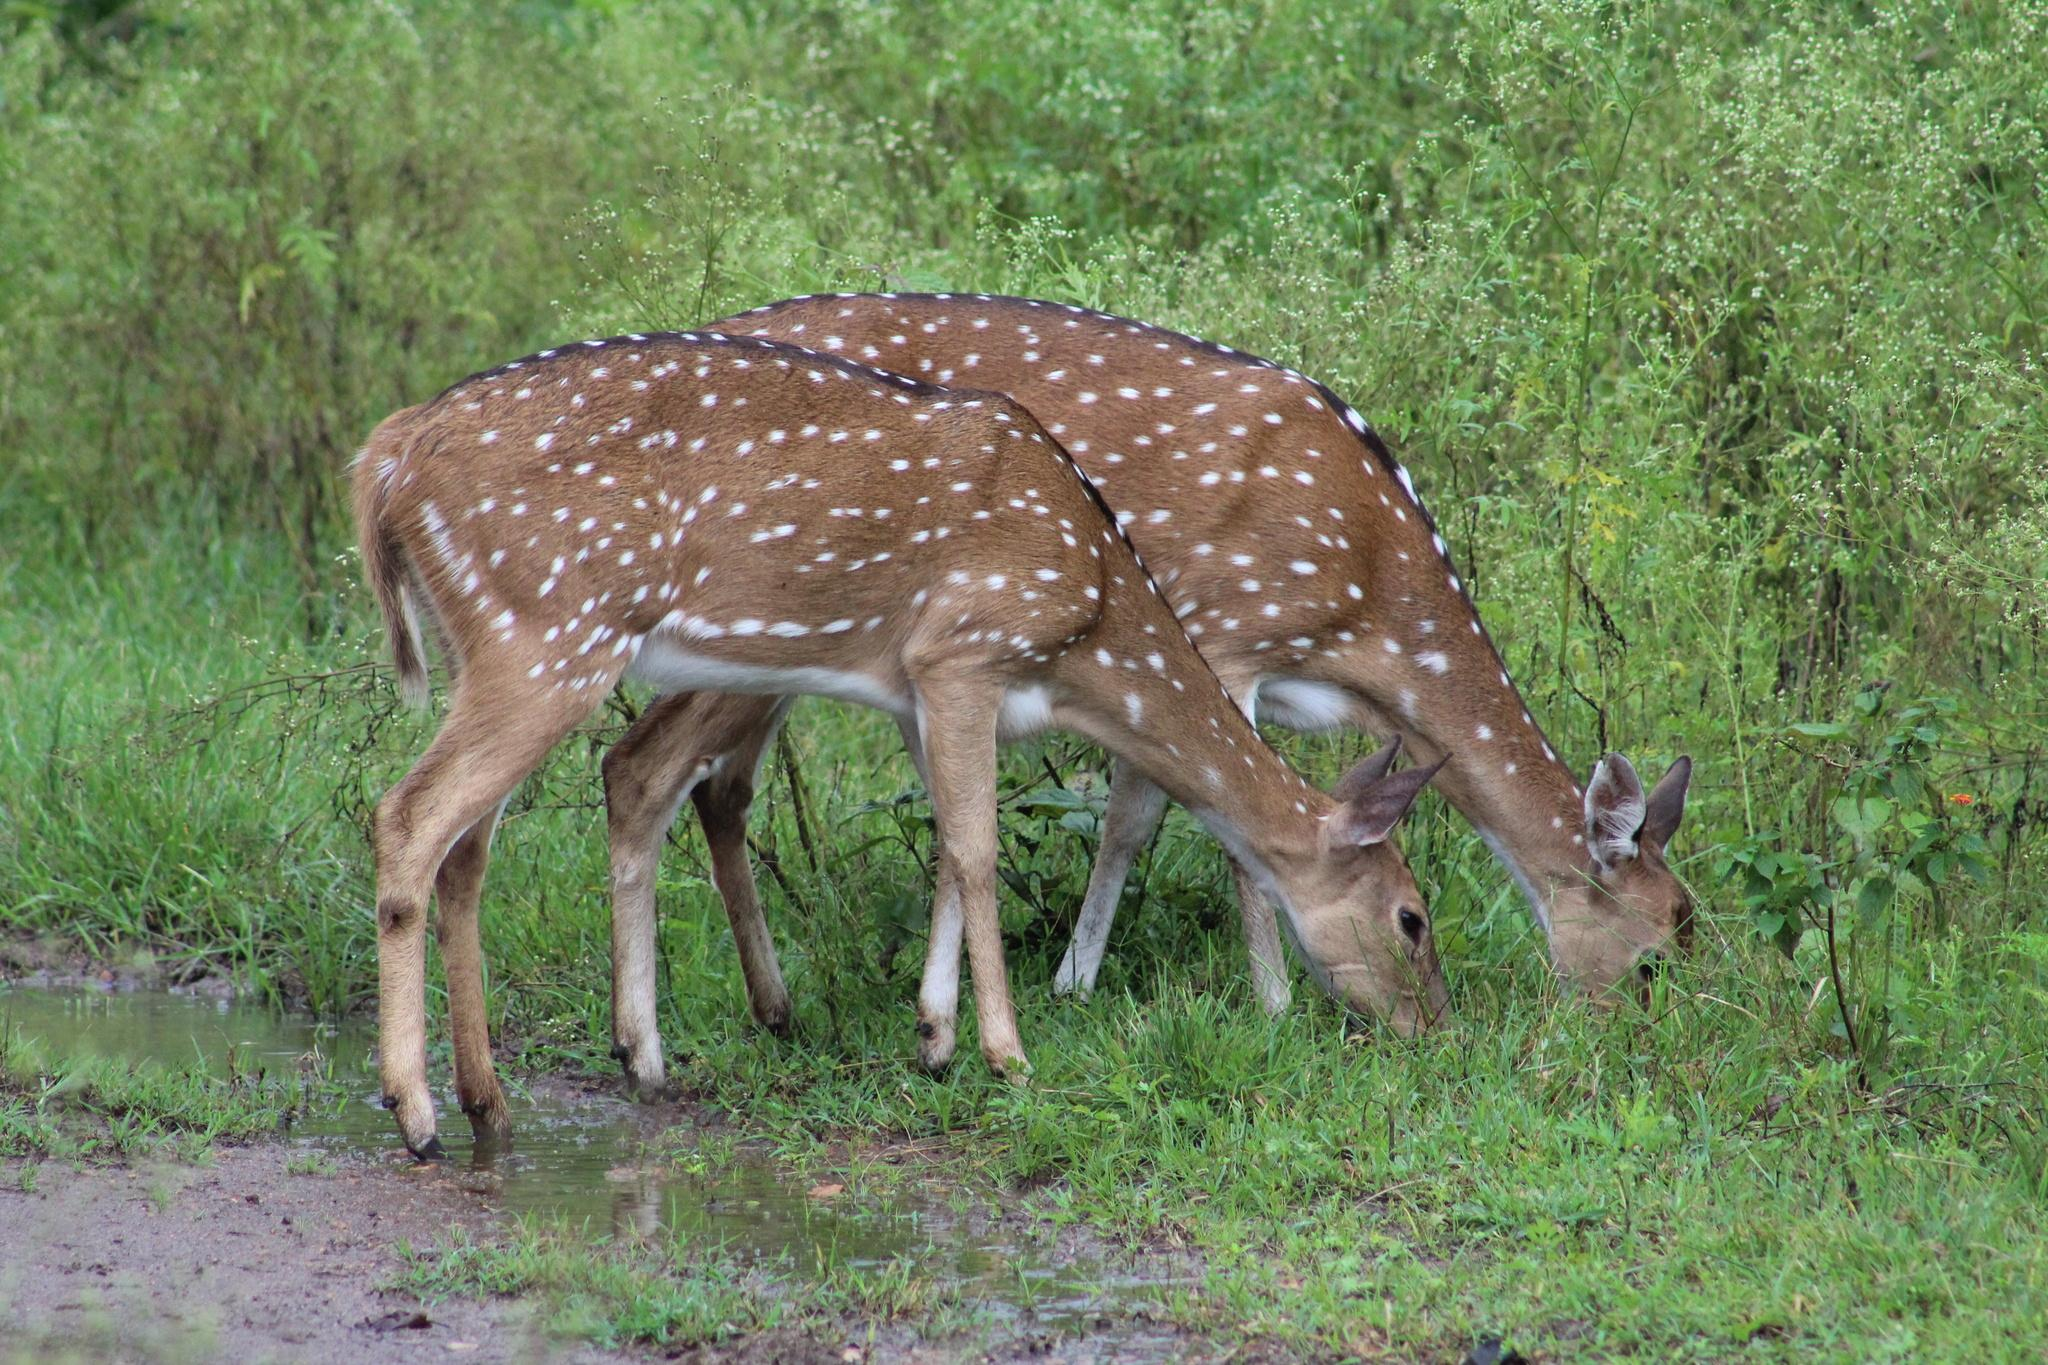Deer: (356, 335, 1445, 1153), (710, 296, 1692, 992)
